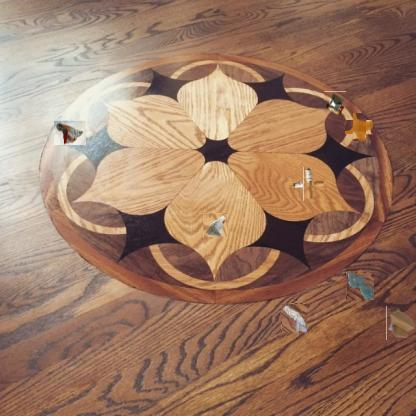dirty: (386, 306, 415, 340), (54, 120, 86, 145), (281, 303, 307, 333), (324, 91, 346, 118), (203, 213, 227, 237), (298, 173, 320, 196)
liquid: (346, 272, 374, 300), (348, 116, 370, 138)
